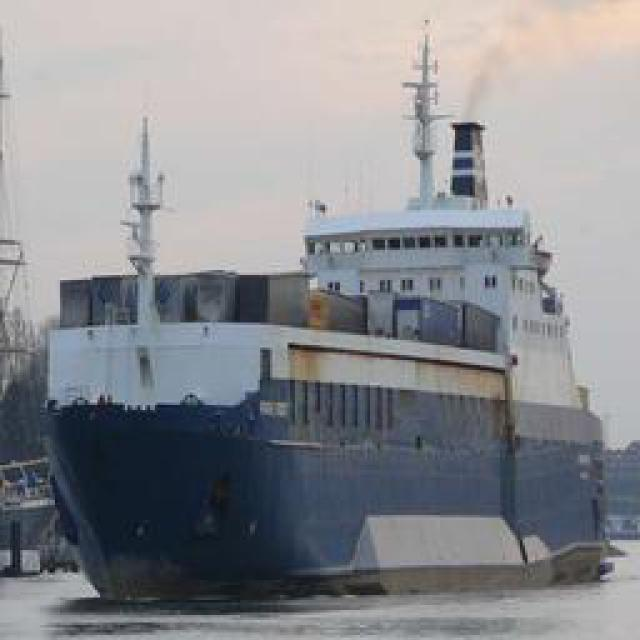Ship: (40, 61, 620, 589)
